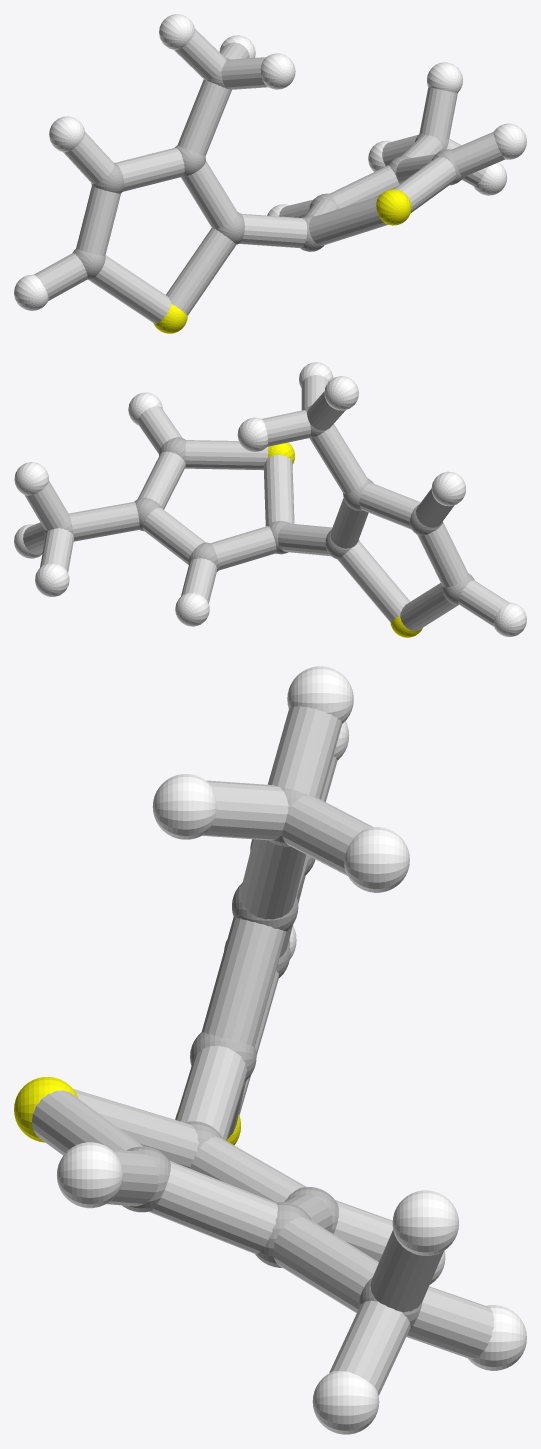
File: Methylthiophene_Phi_30_Theta_80_Methylthiophene.glb
The picture shows the model from 3 angles, top to bottom: view 1: azimuth 30°, elevation 25°; view 2: azimuth 150°, elevation 25°; view 3: azimuth 270°, elevation 25°; orthographic projection. The views are drawn at different scales.
Visible parts, largest first — view 1: grp7965, grp3621, grp1, grp7241; view 2: grp7965, grp3621, grp1, grp7241; view 3: grp7965, grp3621, grp1, grp7241.
Part boxes in pixels (left/top/right/bottom): grp7965: left=34, top=29, right=505, bottom=323; grp3621: left=14, top=14, right=526, bottom=310; grp1: left=72, top=58, right=462, bottom=279; grp7241: left=153, top=189, right=411, bottom=333; grp7965: left=23, top=375, right=508, bottom=630; grp3621: left=14, top=362, right=526, bottom=636; grp1: left=44, top=406, right=474, bottom=604; grp7241: left=268, top=442, right=422, bottom=637; grp7965: left=32, top=706, right=494, bottom=1395; grp3621: left=57, top=666, right=526, bottom=1434; grp1: left=122, top=788, right=421, bottom=1327; grp7241: left=14, top=1077, right=240, bottom=1145.
Size of the model in its own units: 9.74 by 5.18 by 4.62.
